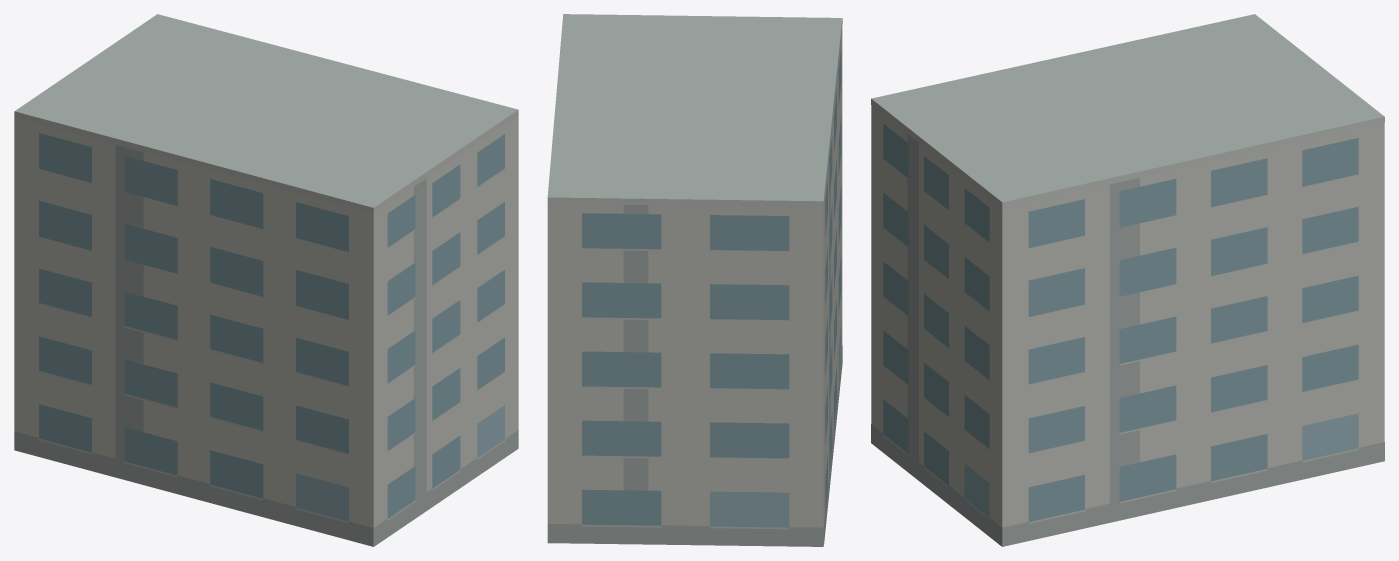
Rendered from survey-upis-32931661.glb.
3 renders of one model, left to right at view 1: azimuth 30°, elevation 25°; view 2: azimuth 150°, elevation 25°; view 3: azimuth 270°, elevation 25°, orthographic.
Parts seen in each view (by area): view 1: survey-upis-32931661.tmp; view 2: survey-upis-32931661.tmp; view 3: survey-upis-32931661.tmp.
Part boxes in pixels (x1,y1,x2,y2): survey-upis-32931661.tmp: [14, 14, 518, 546]; survey-upis-32931661.tmp: [547, 14, 842, 546]; survey-upis-32931661.tmp: [871, 14, 1384, 546].
Size of the model in its own units: 15.66 by 13.35 by 18.05.
